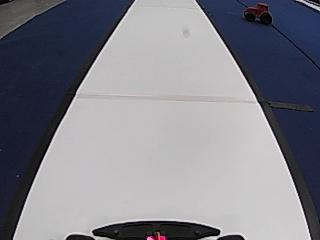Tracktor: (239, 3, 274, 28)
